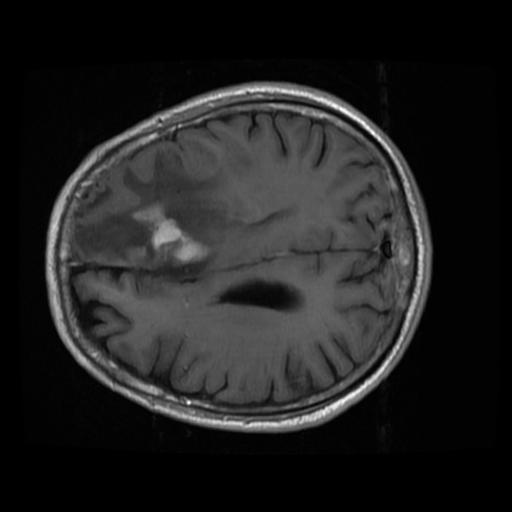glioma: (74, 148, 247, 263)
